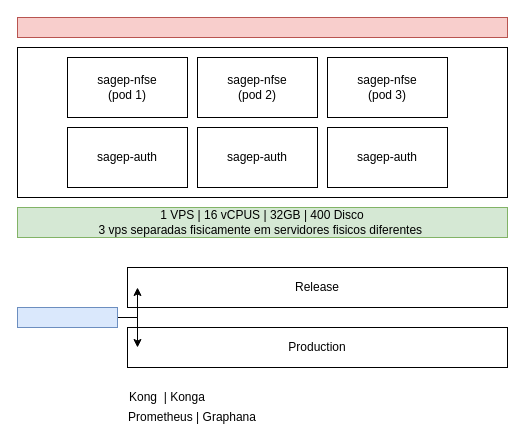
The diagram is 525 pixels wide and 445 high, and some of its shapes have lost their labels. The centre of each missing label's shape, as x and y in pixels:
"CI/CD" goes at (67,317).
"Kubernets | Cluster" goes at (262,27).
